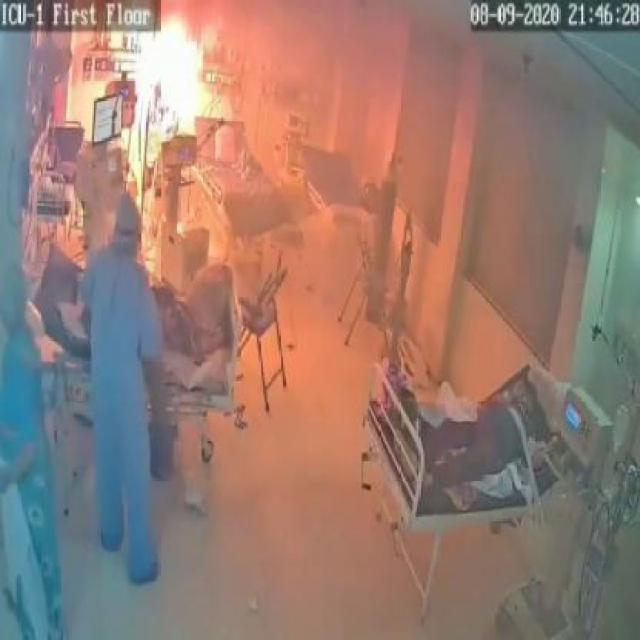fire: (110, 10, 226, 150)
smoke: (276, 10, 604, 198)
